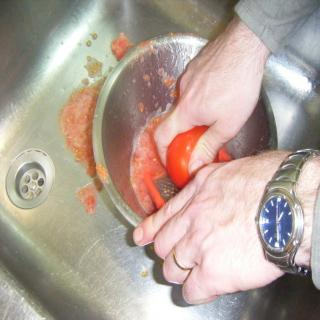tomato: (166, 122, 205, 183)
